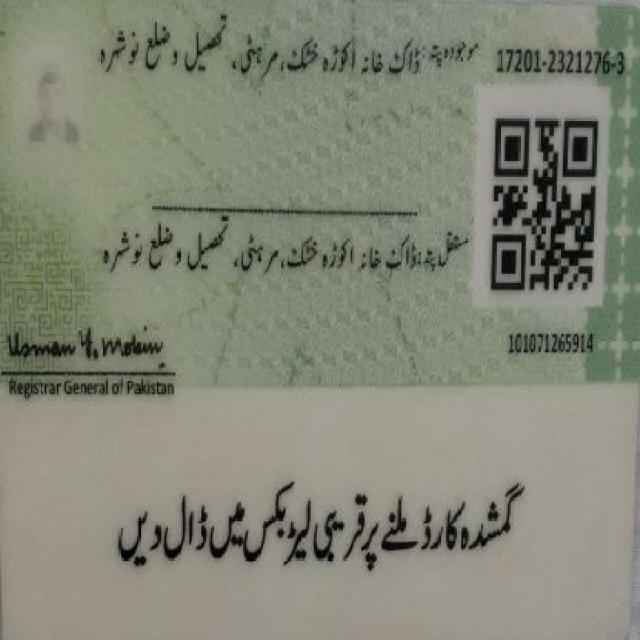Back: (4, 11, 636, 632)
